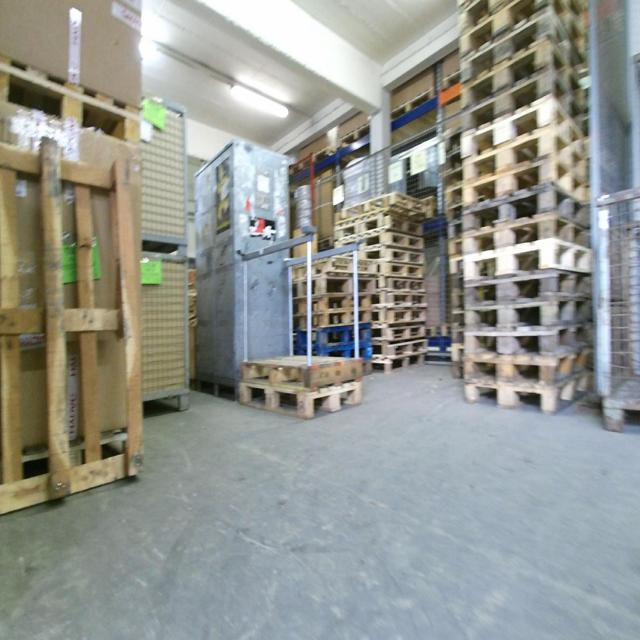pallet: (2, 153, 143, 500), (1, 53, 143, 147), (460, 98, 589, 155), (464, 70, 584, 125), (236, 371, 363, 419), (465, 160, 586, 210), (464, 180, 590, 228), (466, 130, 589, 177), (464, 375, 590, 414), (464, 212, 591, 250), (459, 241, 594, 275), (464, 271, 596, 305), (463, 301, 592, 335), (461, 43, 589, 77), (462, 351, 586, 380), (336, 209, 425, 235), (382, 83, 435, 123), (343, 188, 425, 213), (464, 335, 587, 351), (296, 275, 380, 294), (290, 146, 332, 182), (299, 308, 373, 328), (290, 259, 380, 275), (341, 119, 378, 155), (339, 234, 425, 249), (299, 328, 373, 342), (307, 342, 373, 355), (389, 339, 428, 359), (388, 323, 426, 343), (299, 298, 373, 308), (387, 307, 427, 324), (382, 262, 425, 277), (388, 292, 429, 307), (386, 277, 425, 292), (422, 193, 438, 229), (367, 251, 426, 260), (313, 233, 333, 256), (438, 72, 459, 92), (446, 203, 466, 224), (436, 321, 452, 346), (444, 166, 464, 186), (447, 186, 464, 207), (449, 273, 466, 294), (446, 237, 464, 254), (448, 255, 465, 273), (426, 320, 440, 341), (449, 219, 465, 237), (450, 296, 464, 315), (452, 328, 465, 346), (453, 314, 465, 327), (453, 347, 463, 360)
stillage: (597, 179, 638, 434), (138, 252, 194, 424), (140, 94, 191, 261)
